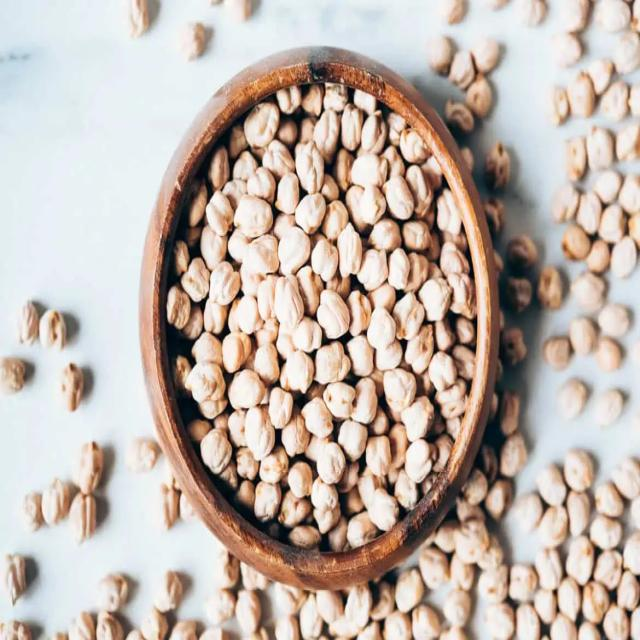garbanzos: (153, 66, 486, 558)
